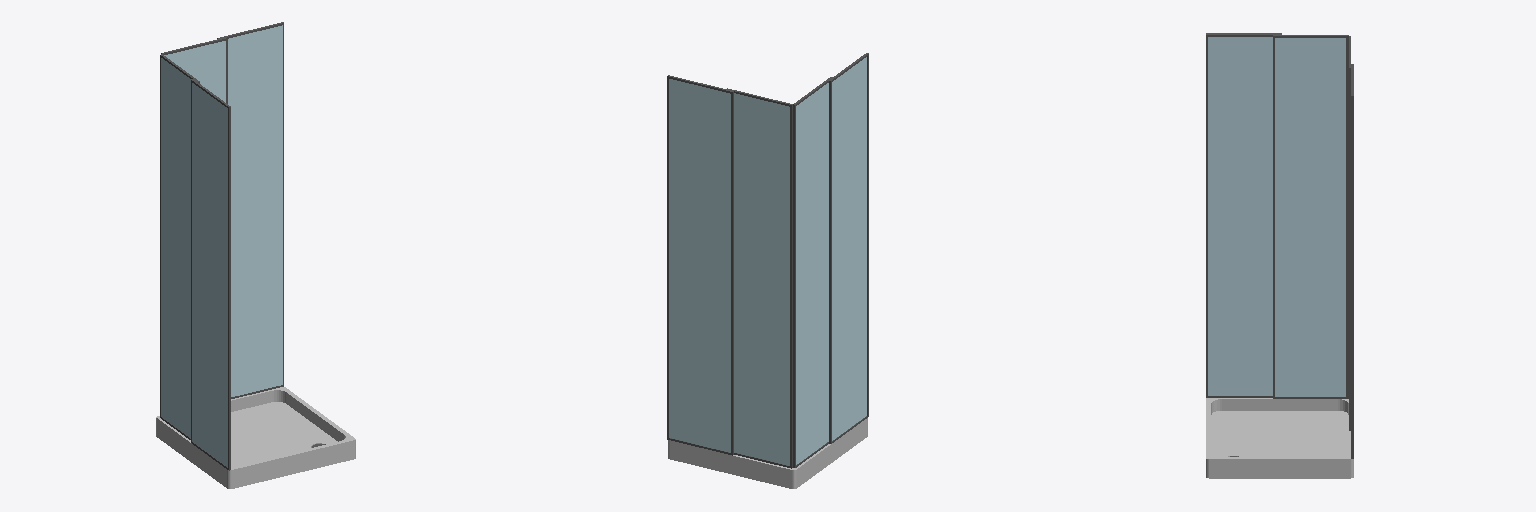
The picture shows the model from 3 angles: view 1: azimuth 30°, elevation 25°; view 2: azimuth 150°, elevation 25°; view 3: azimuth 270°, elevation 25°; orthographic projection.
Parts seen in each view (by area): view 1: Box16_4, Box20_10, Box19_8, Rectangle06_2, Box18_6, Rectangle13_9, Rectangle07_3, Rectangle12_7; view 2: Box16_4, Box18_6, Box20_10, Box19_8, Rectangle06_2, Rectangle07_3, Rectangle13_9, Rectangle11_5, Rectangle12_7; view 3: Box19_8, Box20_10, Rectangle06_2, Rectangle12_7, Rectangle07_3, Rectangle13_9, Rectangle11_5.
Boxes of the visible parts, box(x1,y1,x2,y2) form: Box16_4: box(228, 25, 282, 396); Box20_10: box(192, 83, 227, 466); Box19_8: box(161, 58, 190, 437); Rectangle06_2: box(156, 387, 355, 488); Box18_6: box(164, 41, 225, 102); Rectangle13_9: box(191, 79, 230, 470); Rectangle07_3: box(217, 22, 283, 398); Rectangle12_7: box(160, 54, 199, 439); Box16_4: box(669, 79, 730, 452); Box18_6: box(734, 93, 789, 465); Box20_10: box(832, 57, 866, 440); Box19_8: box(796, 83, 828, 464); Rectangle06_2: box(668, 418, 867, 488); Rectangle07_3: box(667, 75, 733, 455); Rectangle13_9: box(829, 53, 868, 443); Rectangle11_5: box(727, 88, 792, 468); Rectangle12_7: box(793, 77, 832, 467); Box19_8: box(1275, 38, 1345, 396); Box20_10: box(1208, 37, 1272, 395); Rectangle06_2: box(1206, 398, 1353, 478); Rectangle12_7: box(1273, 35, 1348, 398); Rectangle07_3: box(1351, 64, 1353, 458); Rectangle13_9: box(1206, 33, 1281, 397); Rectangle11_5: box(1349, 36, 1350, 430).
Size of the model in its own units: 70.03 by 200 by 70.
Materials: 5 (2 with a texture image).